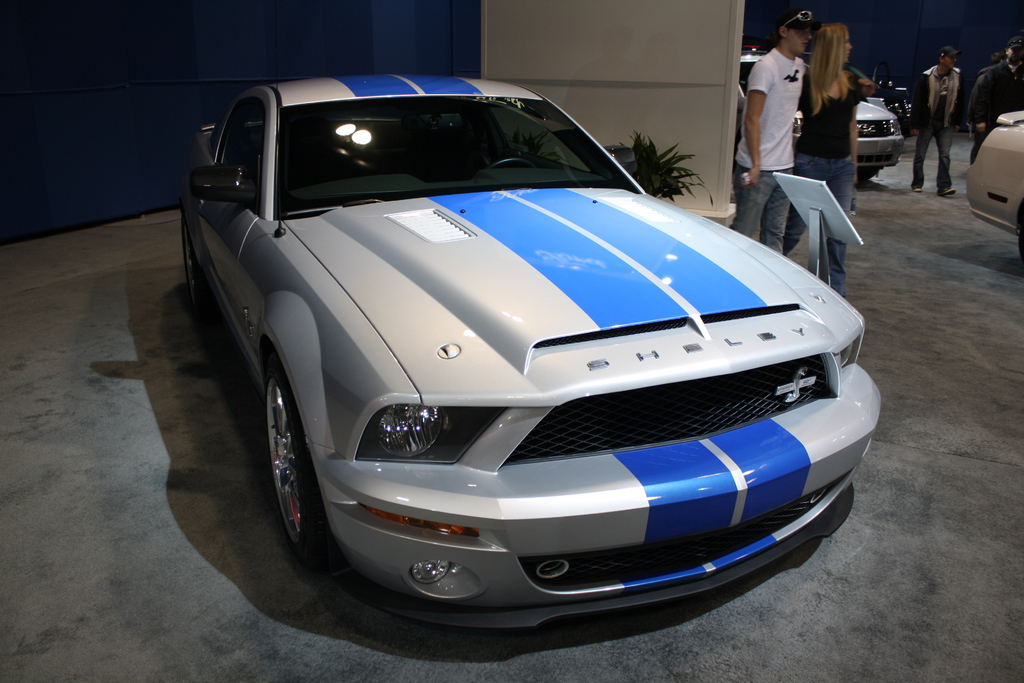Person: (734, 6, 875, 254), (782, 21, 869, 299), (910, 46, 963, 195), (975, 36, 1024, 146), (966, 52, 1006, 165)
